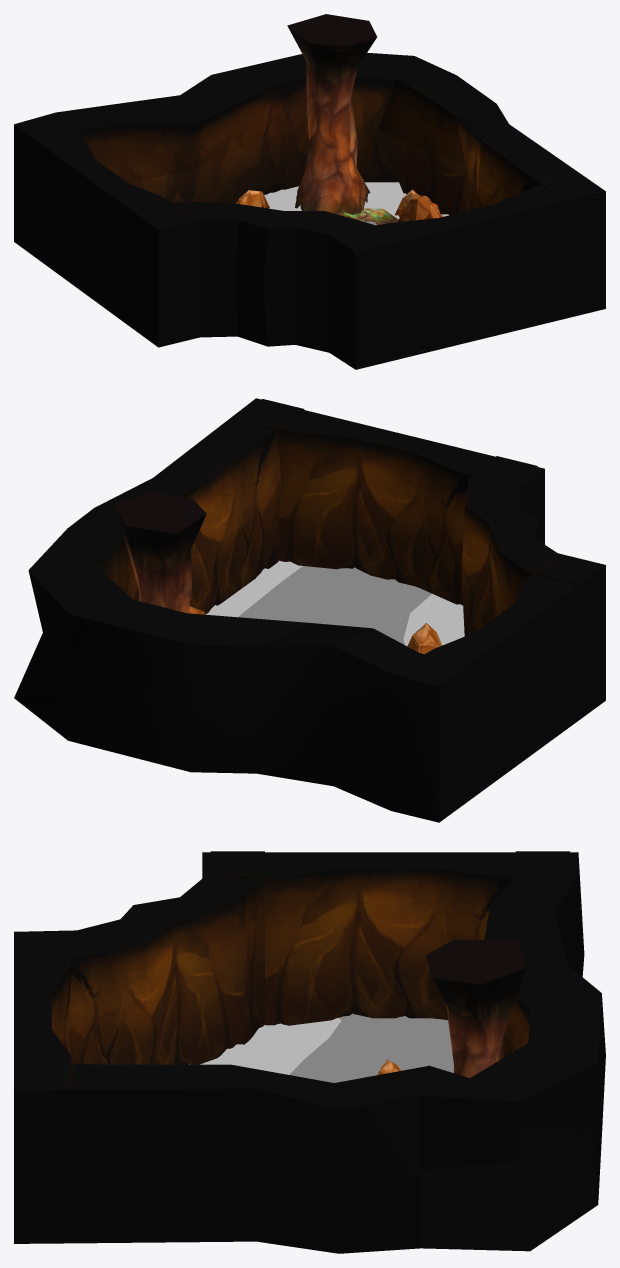
The model's file is Dungeon_062_RoadL_003.fbx.
3 views of the same model, one above another, from view 1: azimuth 30°, elevation 25°; view 2: azimuth 150°, elevation 25°; view 3: azimuth 270°, elevation 25° (orthographic). The views are drawn at different scales.
Parts seen in each view (by area): view 1: Dun_062_Road_003_wall, Dun_062_Door_002 (×2), Dun_062_Object010, Dun_062_Road_003_shadow, Dun_062_Object_100, Dun_062_Road_002_Leaf08; view 2: Dun_062_Road_003_wall, Dun_062_Door_002 (×2), Dun_062_RoadL_003_Nav, Dun_062_Object010, Dun_062_Road_003_shadow, Dungeon_062_Object_02_Rock; view 3: Dun_062_Road_003_wall, Dun_062_Door_002 (×2), Dun_062_Object010, Dun_062_RoadL_003_Nav, Dun_062_Road_003_shadow.
Part boxes in pixels (x1,y1,x2,y2): Dun_062_Road_003_wall: (14,52,605,369); Dun_062_Door_002 (×2): (18,120,599,359); Dun_062_Object010: (287,14,376,214); Dun_062_Road_003_shadow: (264,182,448,219); Dun_062_Object_100: (236,189,442,221); Dun_062_Road_002_Leaf08: (338,208,398,224); Dun_062_Road_003_wall: (14,398,605,822); Dun_062_Door_002 (×2): (237,399,601,801); Dun_062_RoadL_003_Nav: (238,566,431,644); Dun_062_Object010: (115,491,206,613); Dun_062_Road_003_shadow: (205,560,464,646); Dungeon_062_Object_02_Rock: (407,623,442,654); Dun_062_Road_003_wall: (14,852,605,1253); Dun_062_Door_002 (×2): (14,851,569,1086); Dun_062_Object010: (426,939,525,1077); Dun_062_RoadL_003_Nav: (289,1013,453,1082); Dun_062_Road_003_shadow: (189,1018,340,1074).
Size of the model in its own units: 7.21 by 2.96 by 7.08.
